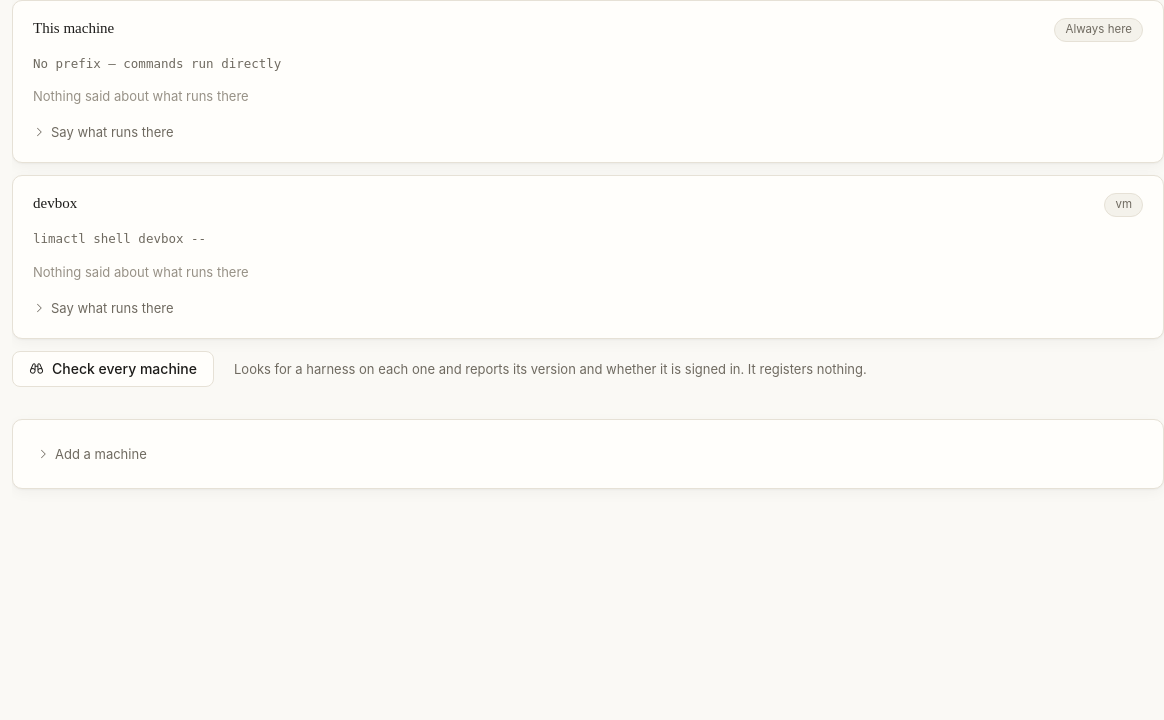
Test: MachinesPanel › reports what a machine turned out to have
Click the button "Check every machine" at [113, 369], box [12,351,214,387]
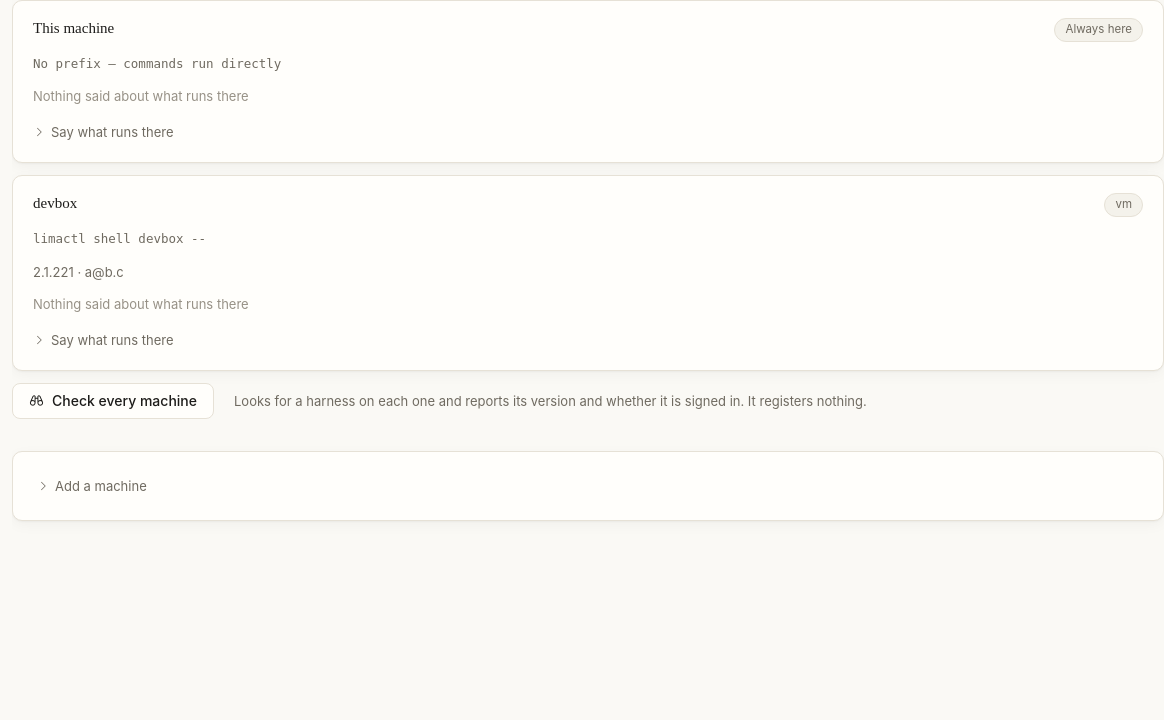
Now the text "2.1.221 · a@b.c" is shown, box [33,264,124,280]
